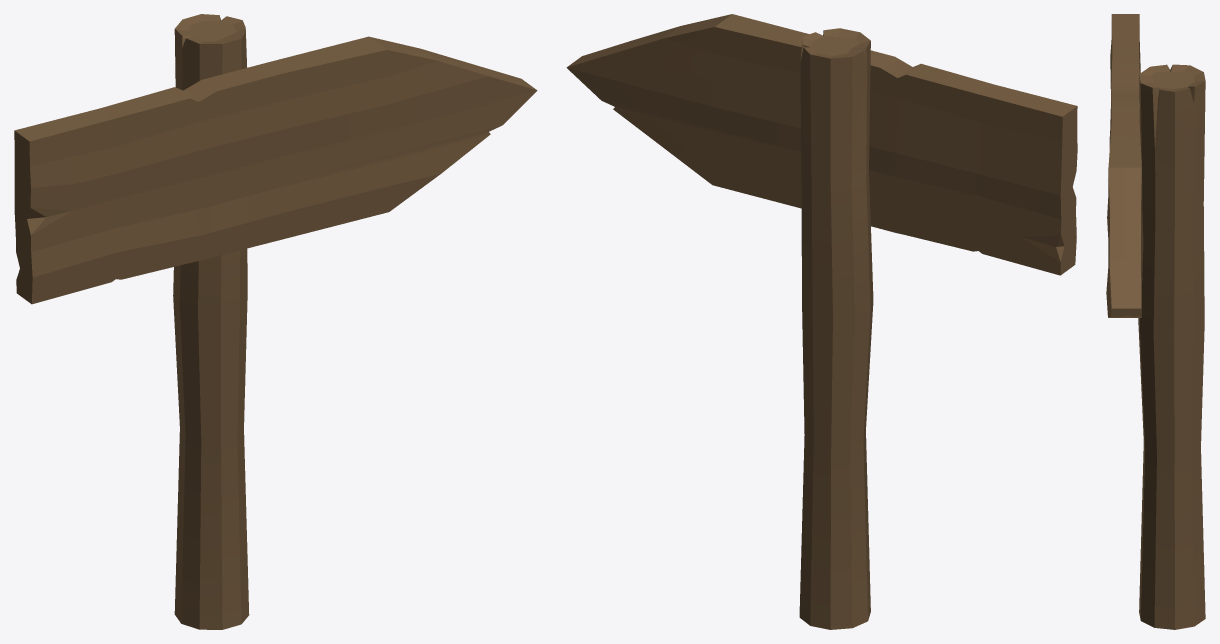
The model's file is right_arrow_sign.fbx.
The picture shows the model from 3 angles, left to right: view 1: azimuth 30°, elevation 25°; view 2: azimuth 150°, elevation 25°; view 3: azimuth 270°, elevation 25°; orthographic projection. The views are drawn at different scales.
Visible parts, largest first — view 1: right_arrow, sign_post_Rarrow; view 2: right_arrow, sign_post_Rarrow; view 3: sign_post_Rarrow, right_arrow.
Part boxes in pixels (bbox=[...]): right_arrow: bbox=[14, 36, 537, 304]; sign_post_Rarrow: bbox=[173, 14, 249, 629]; right_arrow: bbox=[566, 14, 1077, 275]; sign_post_Rarrow: bbox=[799, 28, 873, 629]; sign_post_Rarrow: bbox=[1138, 64, 1205, 629]; right_arrow: bbox=[1106, 14, 1143, 317].
Bounding box in the file's own units: 96.2 × 106 × 17.73.
